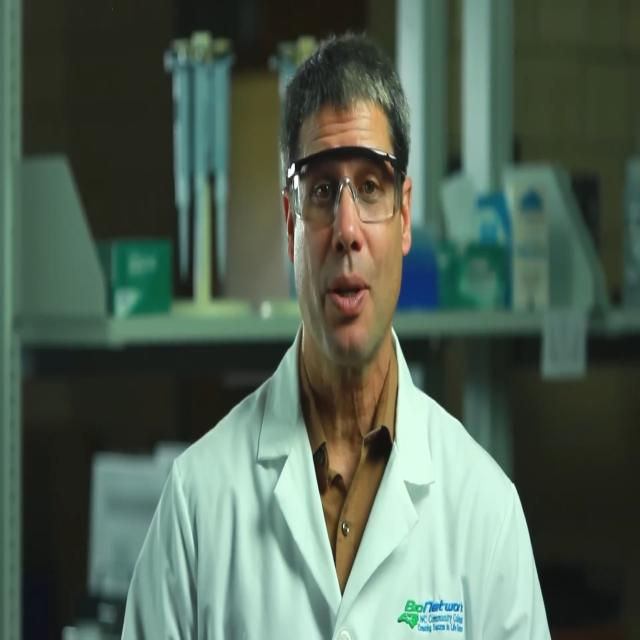googles: (281, 141, 410, 234)
labcoat: (117, 314, 555, 640)
